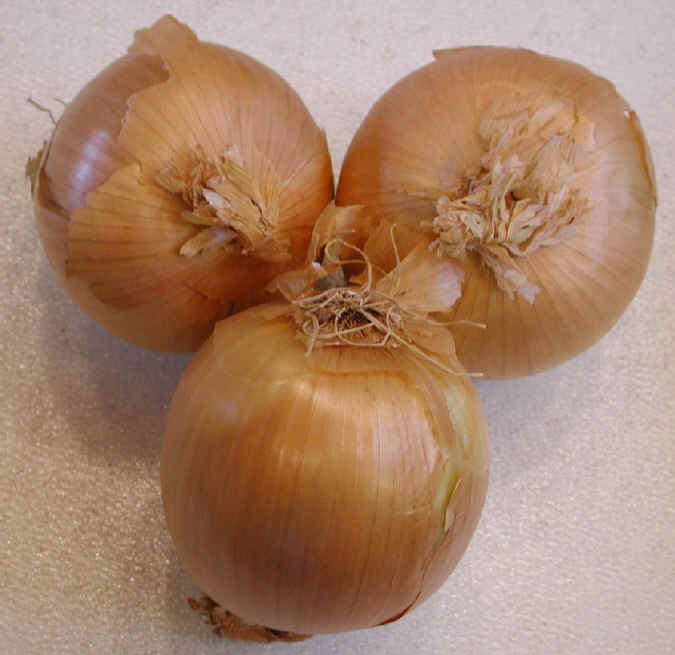onion: (167, 283, 491, 648), (22, 9, 339, 358)
